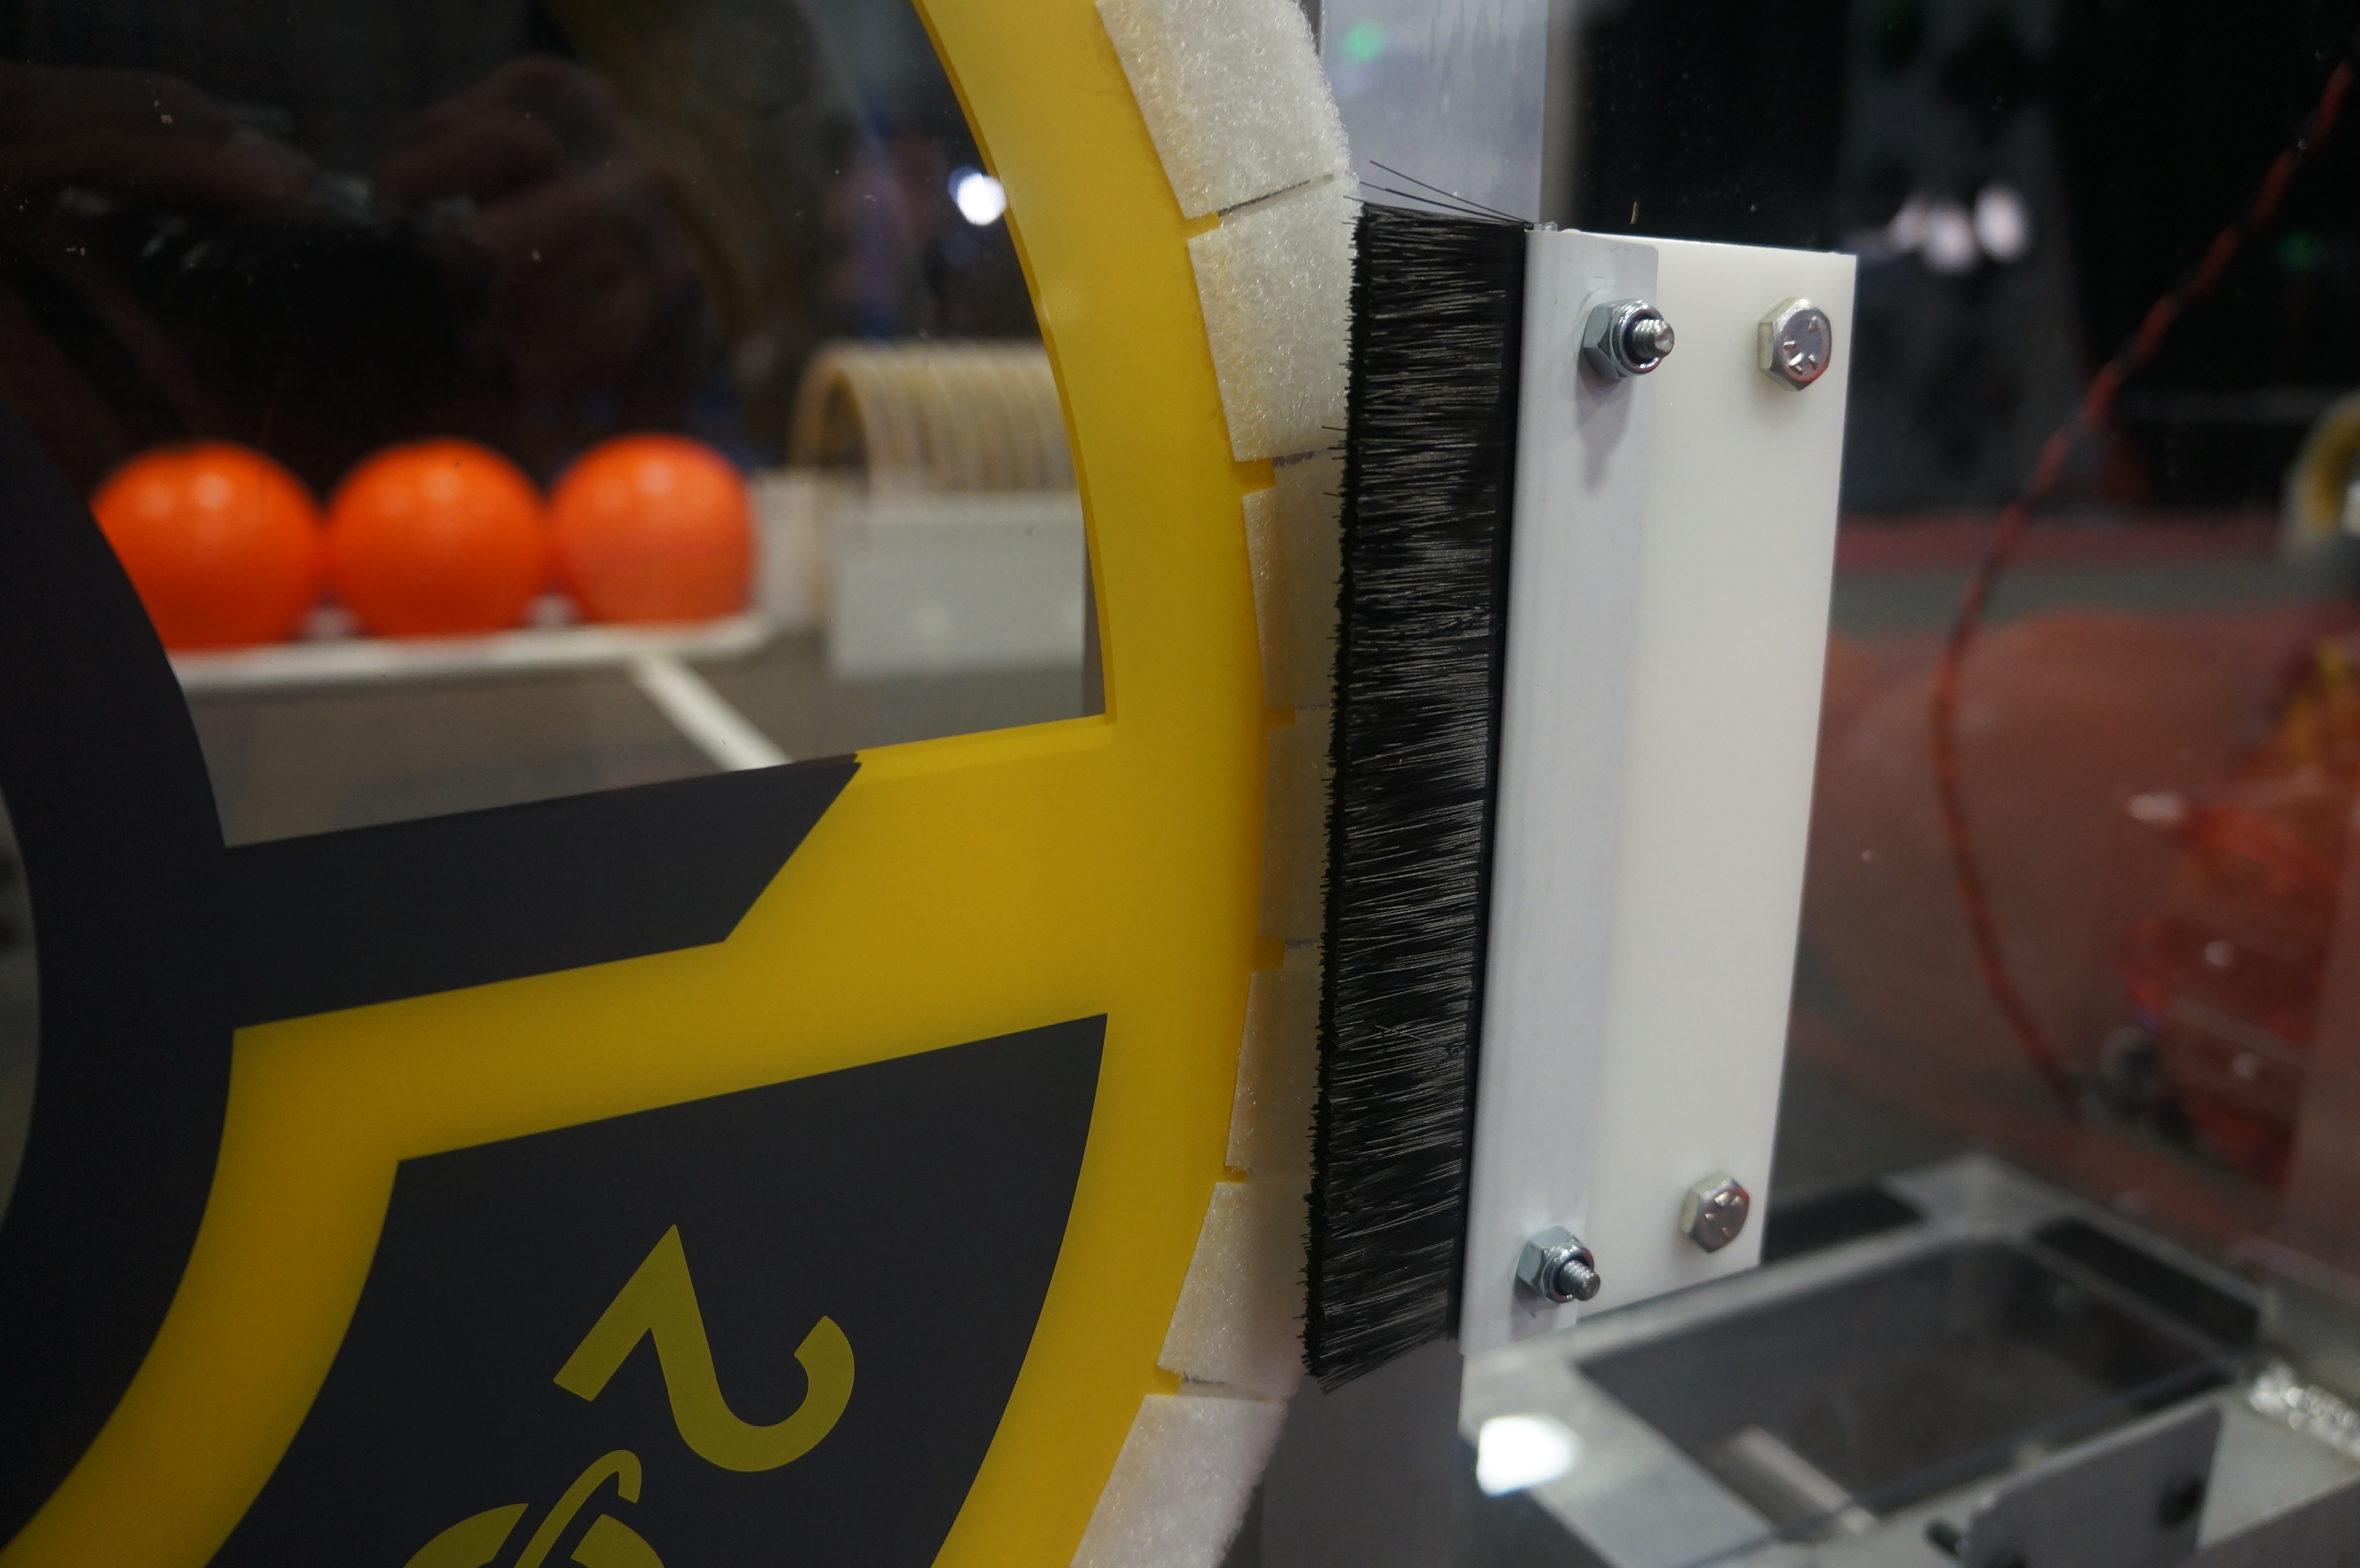Ball: (80, 432, 331, 654), (336, 439, 551, 661), (551, 429, 752, 640)
Hatch: (0, 0, 1380, 1550)
